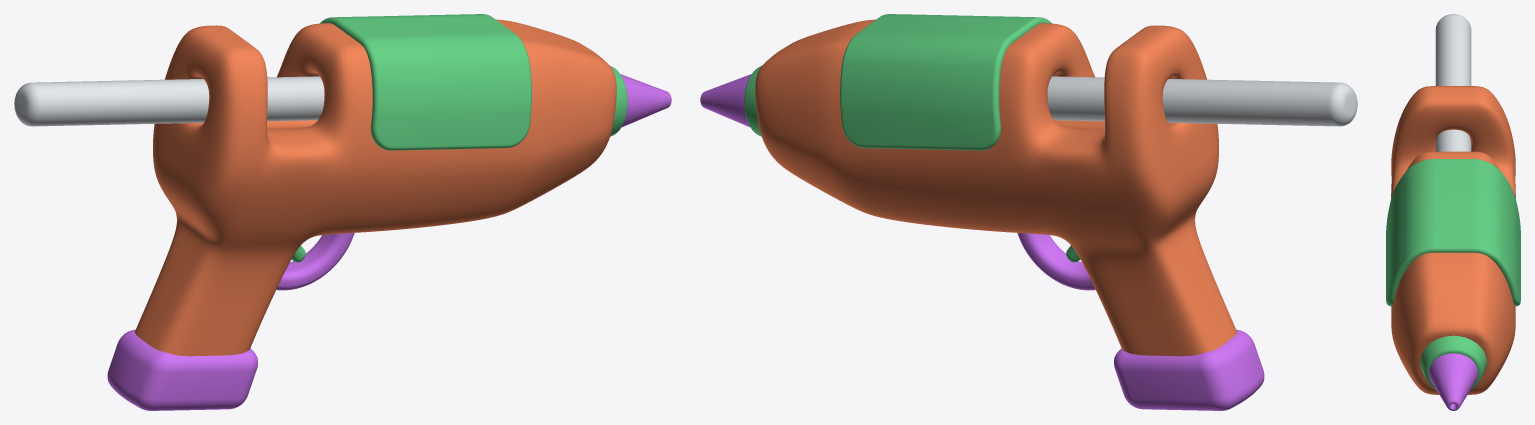
Rendered from 2. Glue Gun.glb.
The picture shows the model from 3 angles, left to right: view 1: azimuth 30°, elevation 25°; view 2: azimuth 150°, elevation 25°; view 3: azimuth 270°, elevation 25°; orthographic projection. The views are drawn at different scales.
Parts seen in each view (by area): view 1: Glue Gun, Glue Gun.001, Cylinder, Cube.001, Circle, Cylinder.002, Cylinder.001; view 2: Glue Gun, Glue Gun.001, Cylinder, Cube.001, Circle, Cylinder.002, Cylinder.001; view 3: Glue Gun, Glue Gun.001, Cylinder, Cylinder.002, Cylinder.001.
Boxes of the visible parts, left/top/right/bottom form: Glue Gun: left=135, top=19, right=616, bottom=356; Glue Gun.001: left=320, top=14, right=531, bottom=150; Cylinder: left=14, top=76, right=324, bottom=126; Cube.001: left=107, top=329, right=257, bottom=410; Circle: left=276, top=233, right=354, bottom=290; Cylinder.002: left=620, top=74, right=671, bottom=127; Cylinder.001: left=610, top=66, right=627, bottom=136; Glue Gun: left=755, top=19, right=1236, bottom=356; Glue Gun.001: left=840, top=14, right=1051, bottom=150; Cylinder: left=1047, top=76, right=1357, bottom=126; Cube.001: left=1114, top=329, right=1264, bottom=410; Circle: left=1017, top=233, right=1095, bottom=290; Cylinder.002: left=700, top=74, right=751, bottom=127; Cylinder.001: left=744, top=66, right=761, bottom=136; Glue Gun: left=1391, top=86, right=1515, bottom=394; Glue Gun.001: left=1386, top=159, right=1520, bottom=306; Cylinder: left=1435, top=14, right=1471, bottom=151; Cylinder.002: left=1429, top=353, right=1477, bottom=410; Cylinder.001: left=1420, top=335, right=1486, bottom=389.
Size of the model in its own units: 1.4 by 0.7393 by 0.3081.
